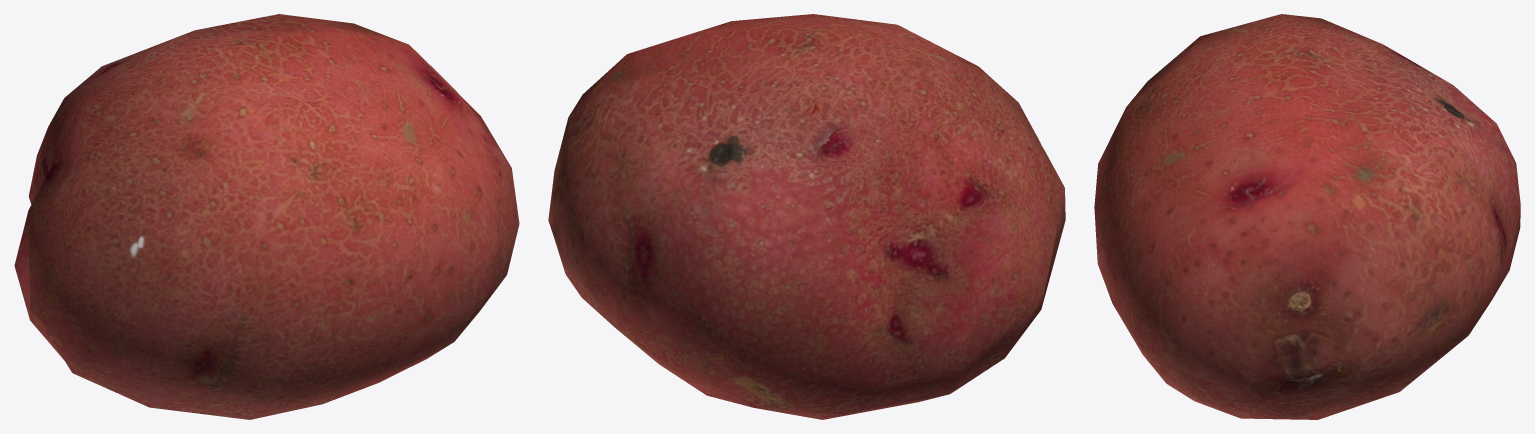
The model's file is A19_Potato_low.fbx.
3 views of the same model, side by side, from view 1: azimuth 30°, elevation 25°; view 2: azimuth 150°, elevation 25°; view 3: azimuth 270°, elevation 25° (orthographic). The views are drawn at different scales.
Parts seen in each view (by area): view 1: A19_Potato_low; view 2: A19_Potato_low; view 3: A19_Potato_low.
Part boxes in pixels (x1,y1,x2,y2): A19_Potato_low: (14,14,519,419); A19_Potato_low: (548,14,1065,419); A19_Potato_low: (1094,14,1520,419).
Bounding box in the file's own units: 7.33 × 6.25 × 5.43.
Materials: 1 (1 with a texture image).
